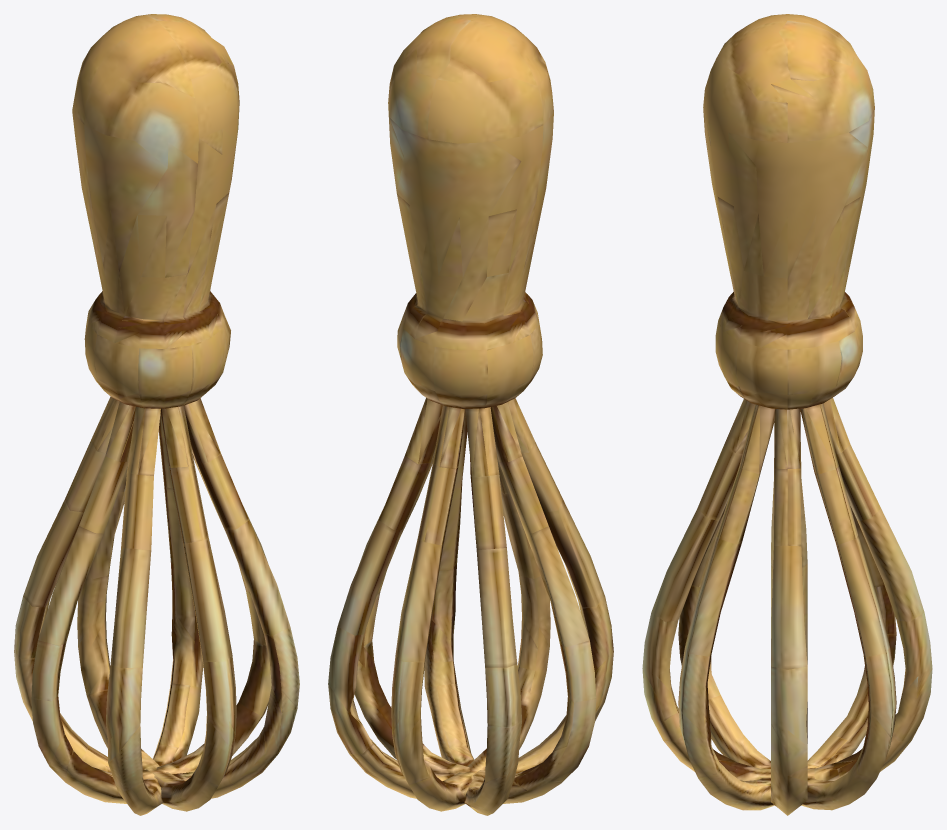
Rendered from item-goldenWhisk.glb.
The picture shows the model from 3 angles, left to right: view 1: azimuth 30°, elevation 25°; view 2: azimuth 150°, elevation 25°; view 3: azimuth 270°, elevation 25°; orthographic projection.
Bounding box in the file's own units: 0.3198 × 0.9512 × 0.3198.
Materials: 1 (1 with a texture image).
